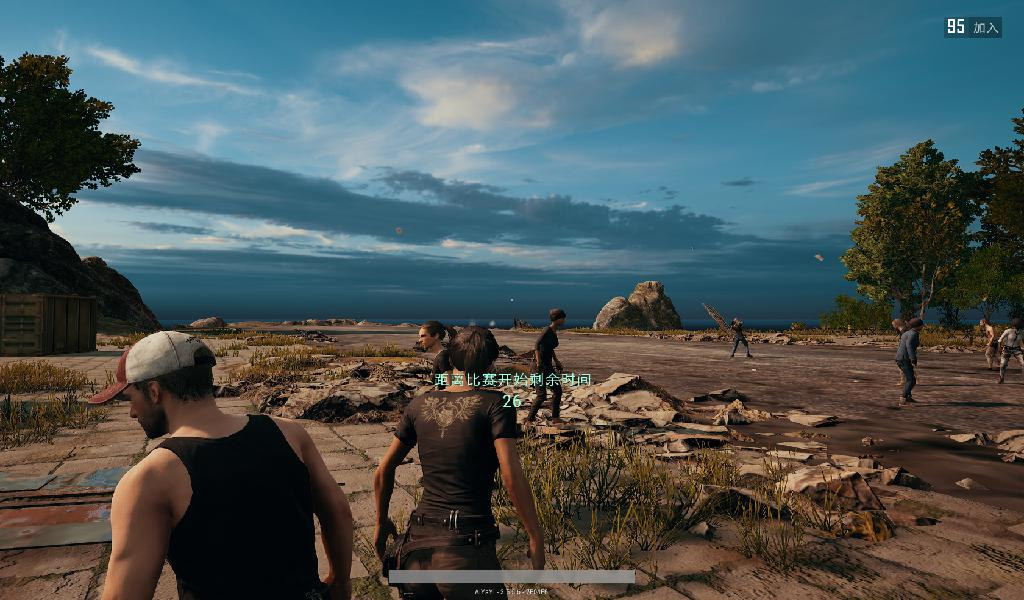Target Person: (78, 328, 357, 600), (373, 325, 545, 600), (525, 307, 572, 427), (893, 317, 925, 410), (998, 319, 1023, 388), (727, 317, 754, 364), (978, 317, 1001, 371)
